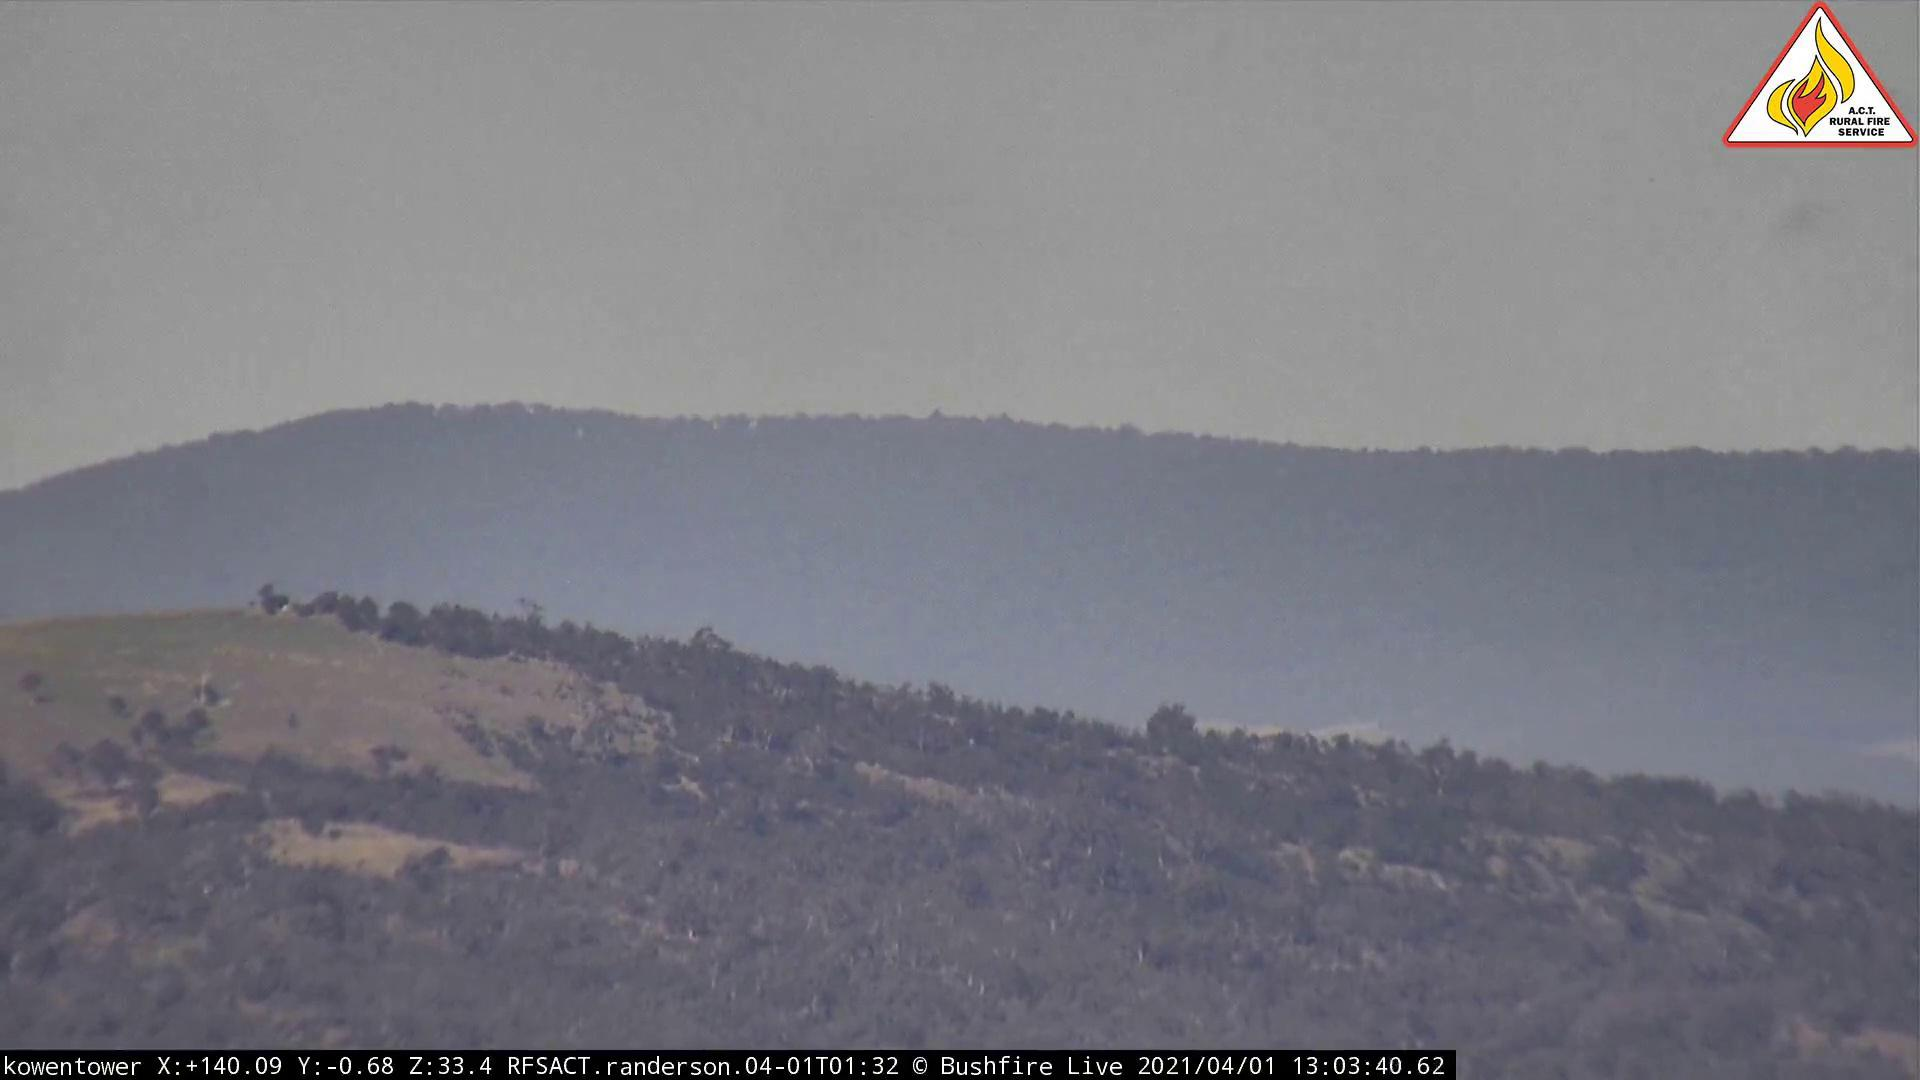Smoke: (605, 116, 1125, 546), (1721, 196, 1905, 345)
